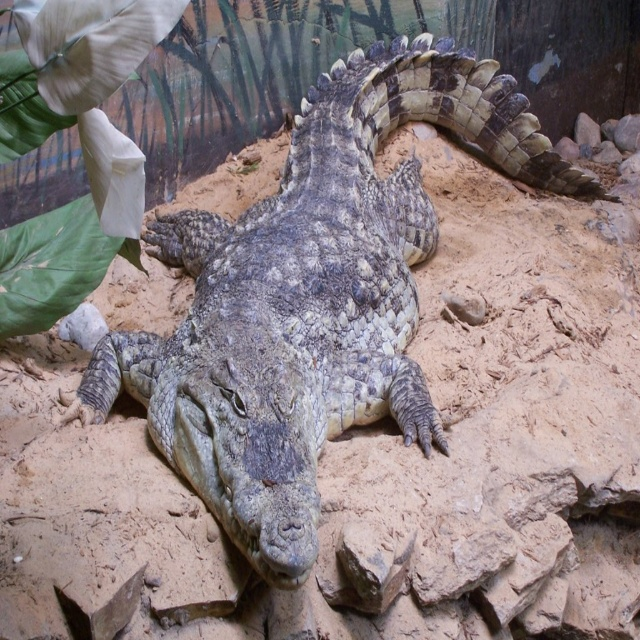Crocodile: (57, 30, 624, 591)
